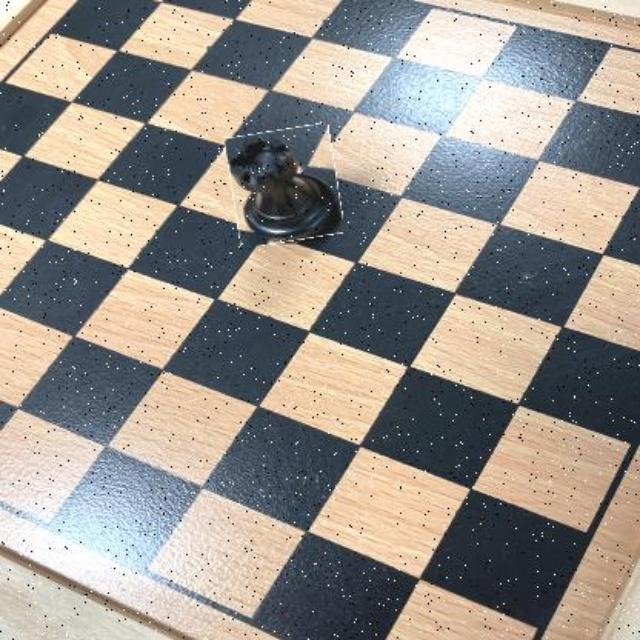black-rook: (229, 127, 341, 245)
